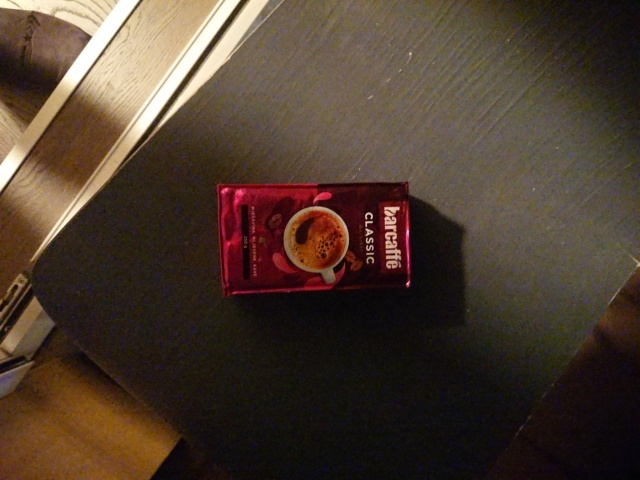Barcaffe Classic Original 225g: (215, 178, 414, 301)
